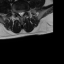CCS_normal: (20, 9, 22, 19)
LFS_severe_stenosis: (24, 8, 27, 14)
LLS_normal: (22, 9, 24, 17)
RFS_severe_stenosis: (15, 9, 18, 15)
RLS_normal: (18, 9, 20, 16)
